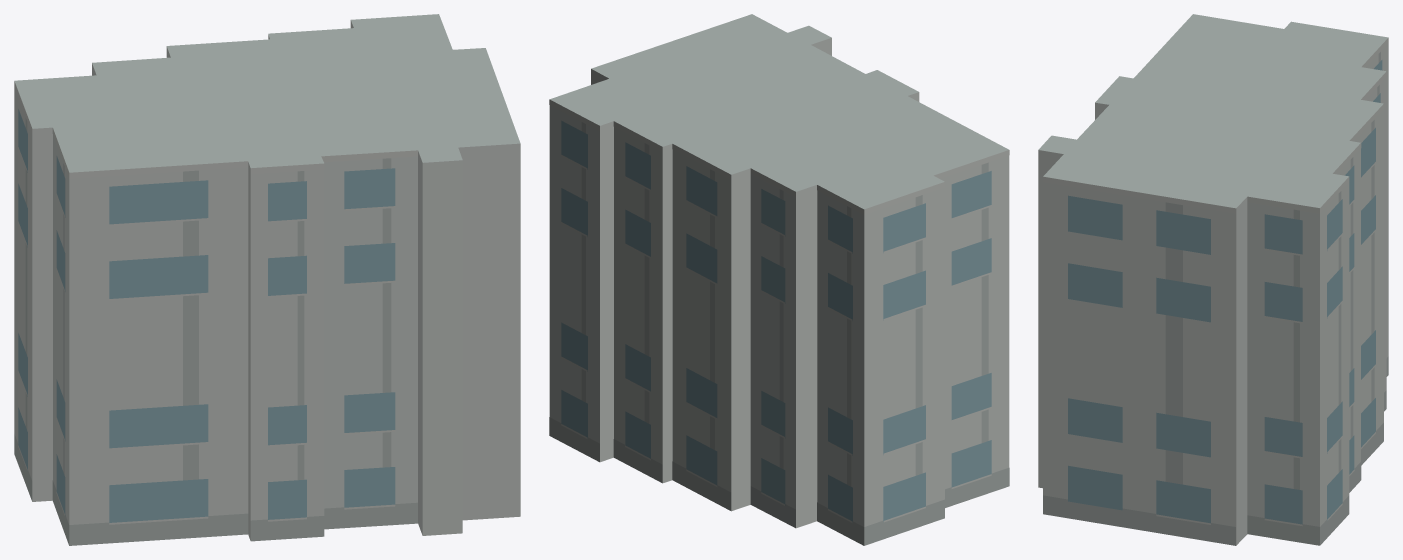
File: survey-upis-32584060.glb
3 renders of one model, left to right at view 1: azimuth 30°, elevation 25°; view 2: azimuth 150°, elevation 25°; view 3: azimuth 270°, elevation 25°, orthographic. The views are drawn at different scales.
Parts seen in each view (by area): view 1: survey-upis-32584060.tmp; view 2: survey-upis-32584060.tmp; view 3: survey-upis-32584060.tmp.
Boxes of the visible parts, x1=… form: survey-upis-32584060.tmp: x1=14, y1=14, x2=520, y2=545; survey-upis-32584060.tmp: x1=549, y1=14, x2=1009, y2=545; survey-upis-32584060.tmp: x1=1038, y1=14, x2=1388, y2=545.
Bounding box in the file's own units: 18.21 × 14.74 × 13.87.
